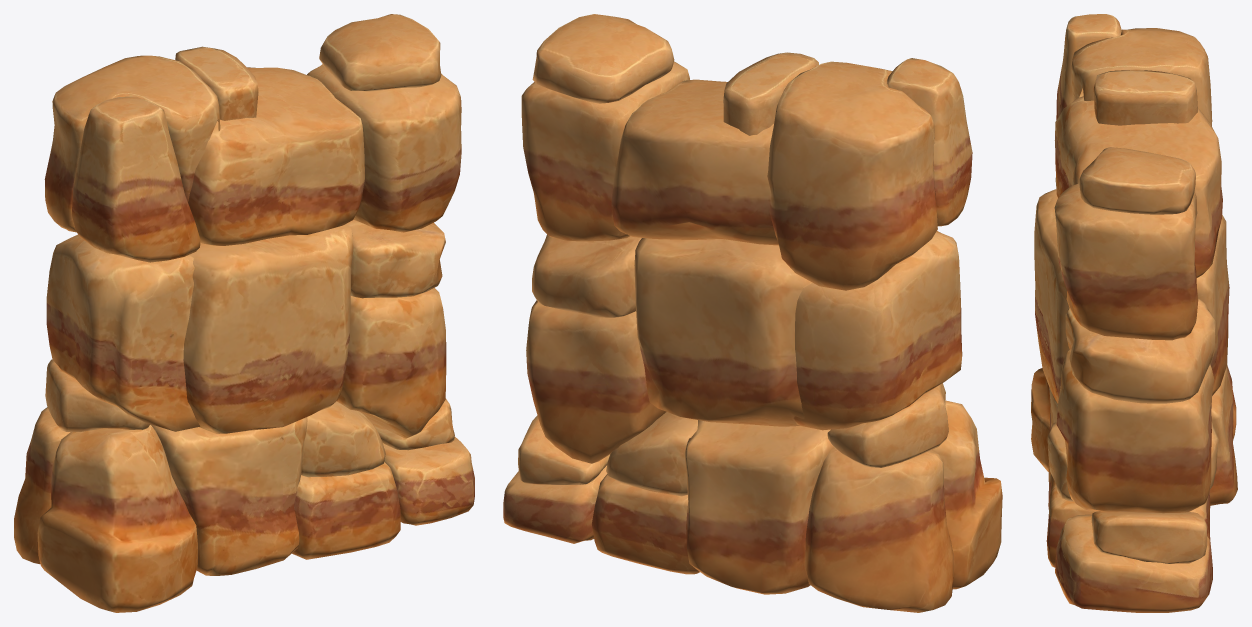
Rendered from sunny-sandstone.glb.
The picture shows the model from 3 angles, left to right: view 1: azimuth 30°, elevation 25°; view 2: azimuth 150°, elevation 25°; view 3: azimuth 270°, elevation 25°; orthographic projection. The views are drawn at different scales.
Visible parts, largest first — view 1: sunny-sandstone_LOD0; view 2: sunny-sandstone_LOD0; view 3: sunny-sandstone_LOD0.
Boxes of the visible parts, x1,y1,x2,y2 form: sunny-sandstone_LOD0: [14, 14, 474, 612]; sunny-sandstone_LOD0: [503, 14, 1002, 612]; sunny-sandstone_LOD0: [1031, 14, 1237, 612].
Size of what is drawn, in the model's own units: 0.9131 by 1 by 0.4287.
1 material, 1 textured.
